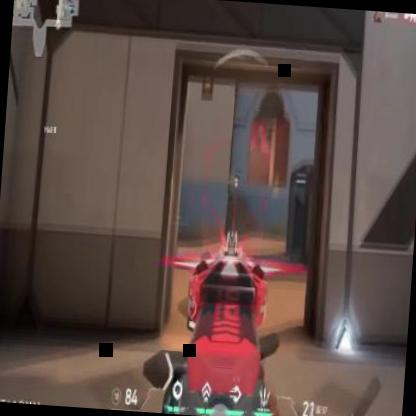enemy: (271, 174, 280, 200), (227, 171, 235, 190), (168, 172, 176, 190)
enemy_head: (228, 172, 232, 178), (170, 172, 173, 178), (274, 176, 278, 180)
